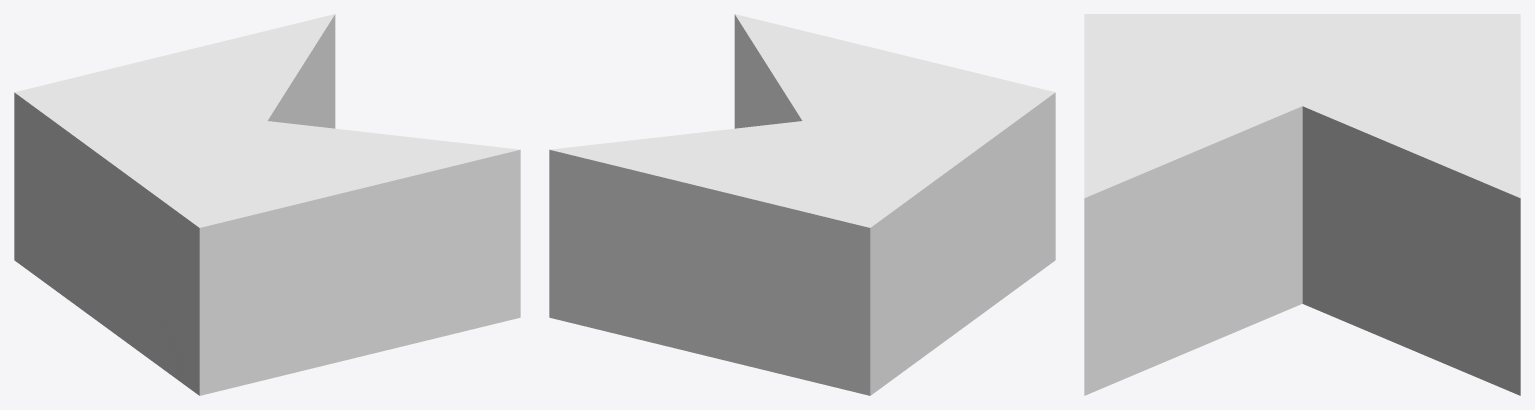
File: Earth_Bridge_Broken.fbx
3 renders of one model, left to right at view 1: azimuth 30°, elevation 25°; view 2: azimuth 150°, elevation 25°; view 3: azimuth 270°, elevation 25°, orthographic. The views are drawn at different scales.
Visible parts, largest first — view 1: Half_Wall.005; view 2: Half_Wall.005; view 3: Half_Wall.005.
Part boxes in pixels (bbox=[...]): Half_Wall.005: bbox=[14, 14, 520, 395]; Half_Wall.005: bbox=[549, 14, 1055, 395]; Half_Wall.005: bbox=[1084, 14, 1520, 395].
Bounding box in the file's own units: 50 × 25 × 50.
